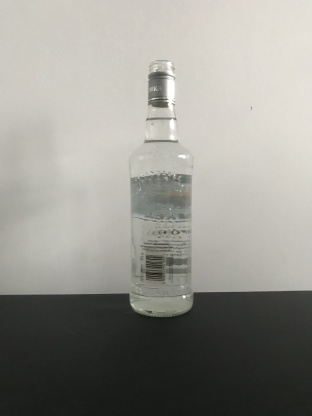nakretka: (145, 57, 177, 109)
